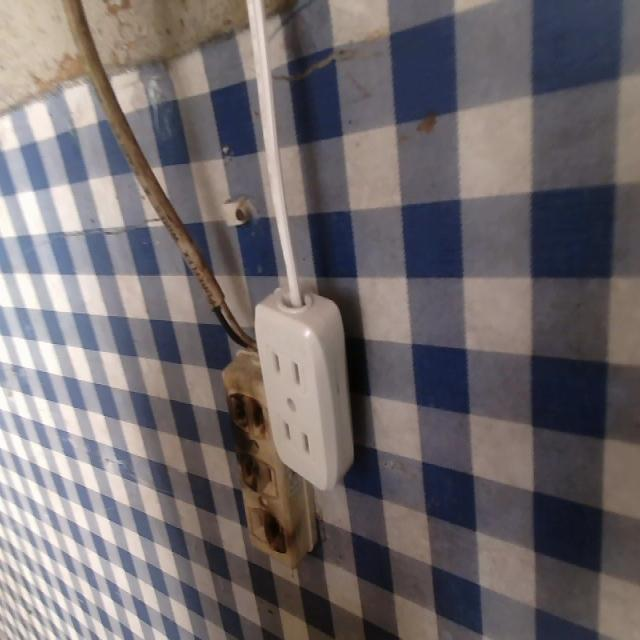-: (212, 380, 270, 443), (259, 509, 290, 560), (230, 449, 259, 495)
